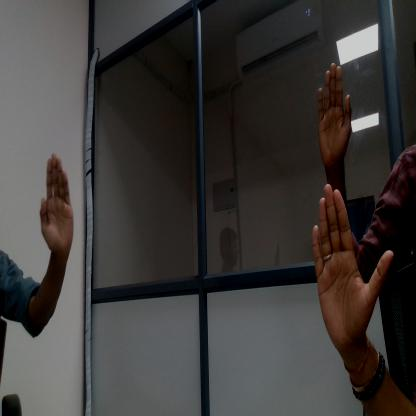Stop: (304, 179, 392, 352), (311, 59, 357, 160), (38, 145, 78, 260)
